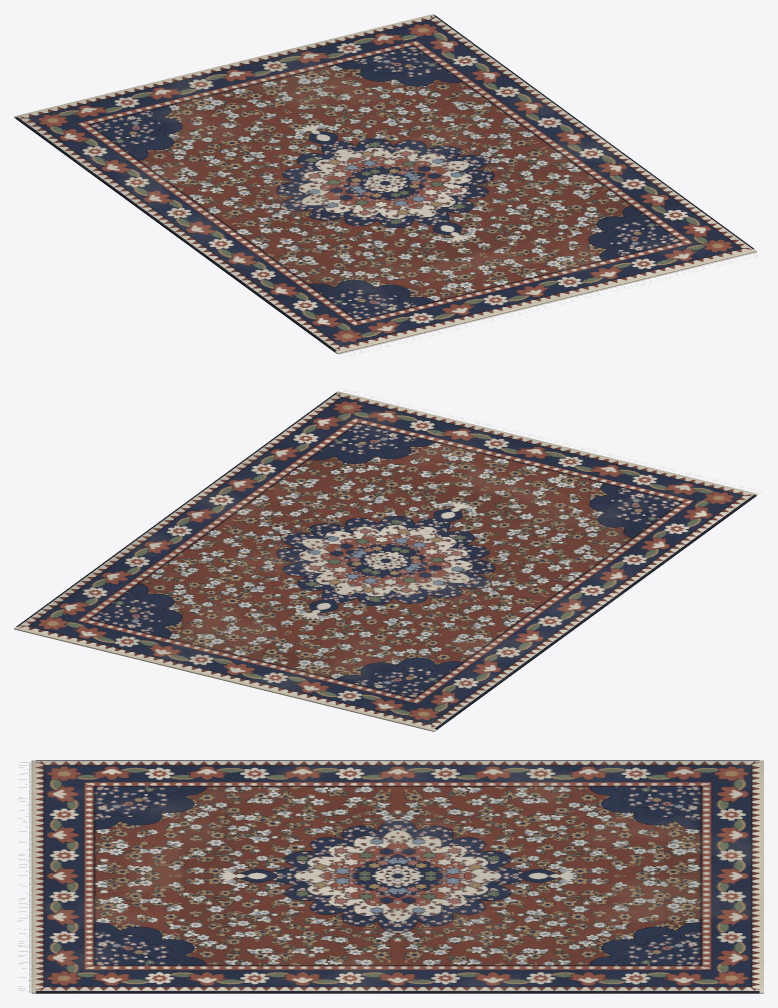
Rendered from rug-kashan-heirloom.2975c9f1.glb.
3 views of the same model, one above another, from view 1: azimuth 30°, elevation 25°; view 2: azimuth 150°, elevation 25°; view 3: azimuth 270°, elevation 25° (orthographic). The views are drawn at different scales.
Visible parts, largest first — view 1: rug-kashan-heirloom, rug-kashan-heirloom-fringe; view 2: rug-kashan-heirloom; view 3: rug-kashan-heirloom, rug-kashan-heirloom-fringe.
Part boxes in pixels (x1,y1,x2,y2): rug-kashan-heirloom: (14,14,756,353); rug-kashan-heirloom-fringe: (338,252,761,356); rug-kashan-heirloom: (14,391,757,731); rug-kashan-heirloom: (31,760,763,993); rug-kashan-heirloom-fringe: (17,761,30,992).
Size of the model in its own units: 2.55 by 0.01 by 3.48.
2 materials, 2 textured.
